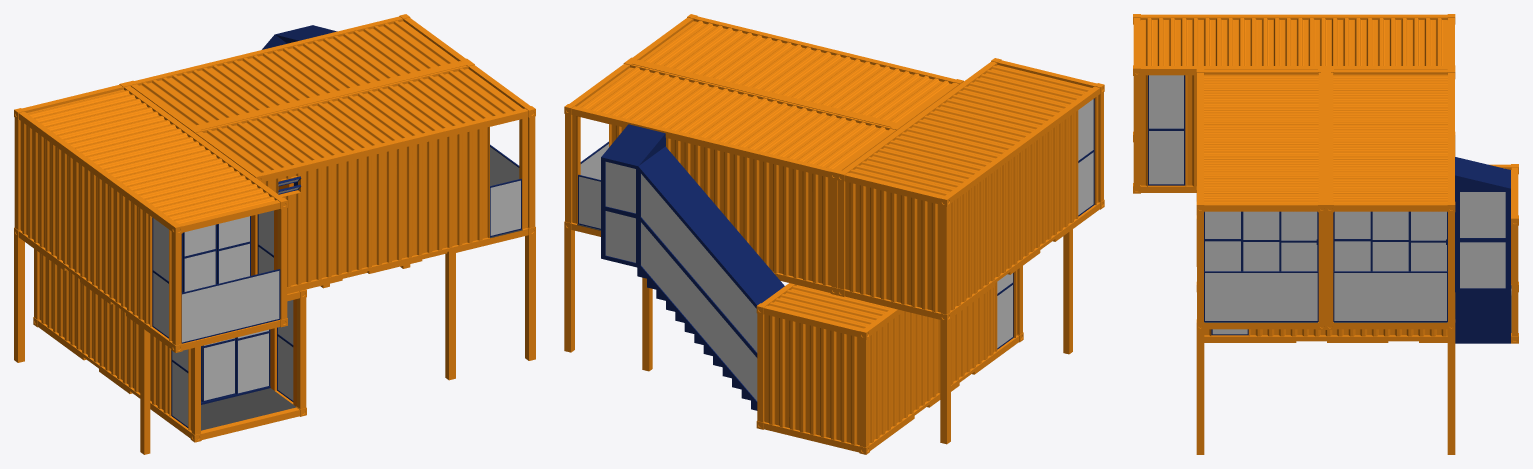
File: uploads_files_2821943_container.house.obj
The picture shows the model from 3 angles, left to right: view 1: azimuth 30°, elevation 25°; view 2: azimuth 150°, elevation 25°; view 3: azimuth 270°, elevation 25°; orthographic projection. The views are drawn at different scales.
Visible parts, largest first — view 1: container_2_Cube.038, container_4_Cube.008, container_3_Cube.037, container_1_Cube.007, portas_e_janelas_4_Cylinder.004, suportes_Cube.046, portas_e_janelas_1_Cube.032, paredes_1_Cube.028, portas_e_janelas_2_Cylinder, paredes_4_Cube.003, escada_Cube.010, paredes_2_Cube.043; view 2: container_4_Cube.008, container_3_Cube.037, container_1_Cube.007, escada_Cube.010, container_2_Cube.038, suportes_Cube.046, portas_e_janelas_4_Cylinder.004, portas_e_janelas_3_Cube.016, portas_e_janelas_1_Cube.032; view 3: container_4_Cube.008, container_2_Cube.038, container_3_Cube.037, portas_e_janelas_2_Cylinder, portas_e_janelas_3_Cube.016, escada_Cube.010, suportes_Cube.046, container_1_Cube.007, portas_e_janelas_4_Cylinder.004.
Part boxes in pixels (x1,y1,x2,y2): container_2_Cube.038: (191,61,535,293); container_4_Cube.008: (14,82,287,352); container_3_Cube.037: (126,14,470,130); container_1_Cube.007: (33,249,306,442); portas_e_janelas_4_Cylinder.004: (152,210,280,343); suportes_Cube.046: (14,61,535,454); portas_e_janelas_1_Cube.032: (171,300,293,427); paredes_1_Cube.028: (169,299,296,430); portas_e_janelas_2_Cylinder: (278,144,521,237); paredes_4_Cube.003: (150,209,277,326); escada_Cube.010: (262,25,337,49); paredes_2_Cube.043: (278,119,522,229); container_4_Cube.008: (837,58,1104,321); container_3_Cube.037: (564,60,900,295); container_1_Cube.007: (756,266,1023,454); escada_Cube.010: (601,124,784,410); container_2_Cube.038: (628,14,963,127); suportes_Cube.046: (564,60,1072,444); portas_e_janelas_4_Cylinder.004: (1078,98,1094,216); portas_e_janelas_3_Cube.016: (578,141,608,229); portas_e_janelas_1_Cube.032: (997,273,1013,349); container_4_Cube.008: (1133,14,1455,193); container_2_Cube.038: (1196,68,1325,329); container_3_Cube.037: (1326,68,1455,329); portas_e_janelas_2_Cylinder: (1204,211,1318,321); portas_e_janelas_3_Cube.016: (1333,211,1447,321); escada_Cube.010: (1455,157,1510,343); suportes_Cube.046: (1196,72,1455,454); container_1_Cube.007: (1196,164,1518,343); portas_e_janelas_4_Cylinder.004: (1148,75,1185,185).
Size of what is drawn, in the model's own units: 8.49 by 5.18 by 7.25.
